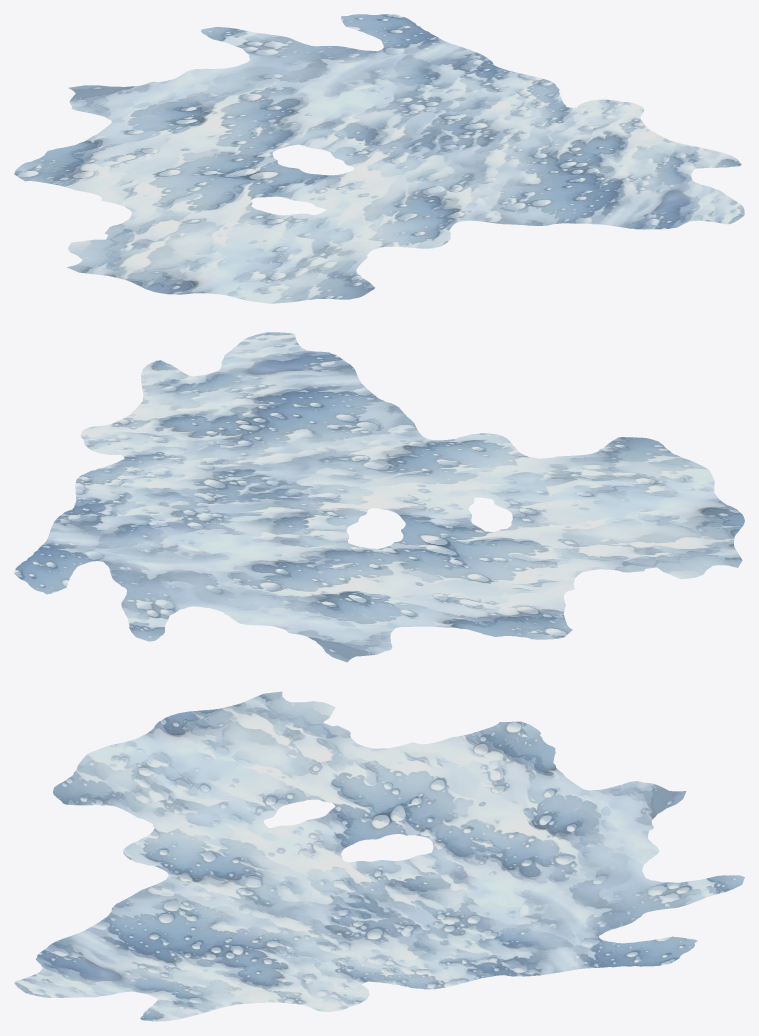
The model's file is Landingv2.fbx.
The picture shows the model from 3 angles, top to bottom: view 1: azimuth 30°, elevation 25°; view 2: azimuth 150°, elevation 25°; view 3: azimuth 270°, elevation 25°; orthographic projection. The views are drawn at different scales.
Visible parts, largest first — view 1: Snow2; view 2: Snow2; view 3: Snow2.
Boxes of the visible parts, x1=… form: Snow2: x1=14, y1=14, x2=744, y2=303; Snow2: x1=14, y1=332, x2=744, y2=662; Snow2: x1=14, y1=691, x2=744, y2=1021.
Bounding box in the file's own units: 1301 × 0.000198 × 1217.
